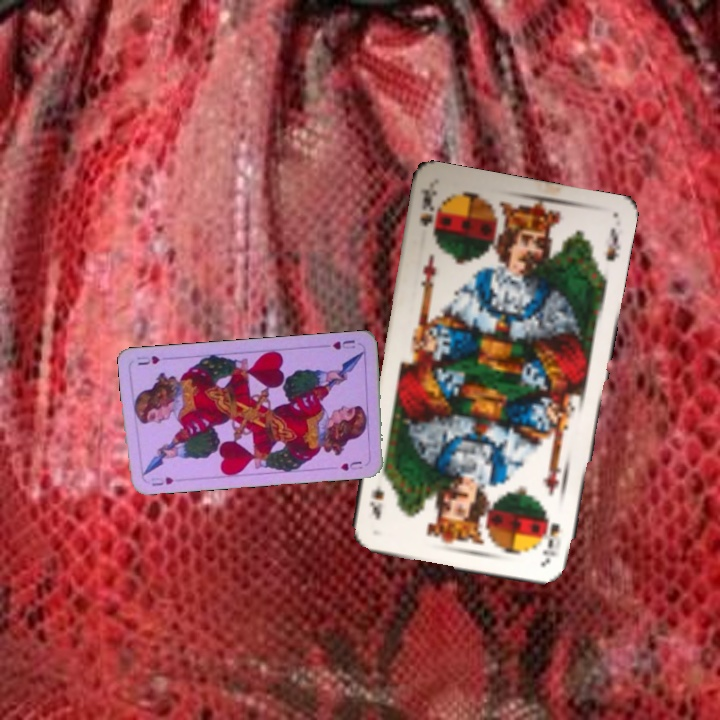HU: (320, 336, 358, 352), (148, 473, 176, 489)
SK: (416, 185, 442, 239), (540, 519, 563, 562)
